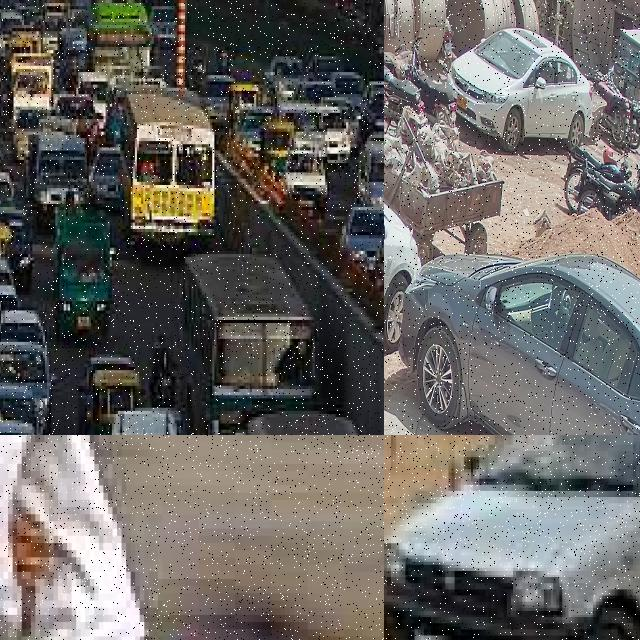bike: (0, 564, 262, 640), (562, 141, 628, 216), (404, 45, 456, 127), (575, 158, 640, 221), (384, 34, 423, 135), (593, 70, 630, 146), (384, 37, 422, 81)
car: (384, 435, 640, 640), (400, 251, 640, 435), (447, 27, 592, 154), (384, 126, 424, 413)
